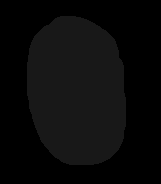fp: (22, 11, 127, 168)
